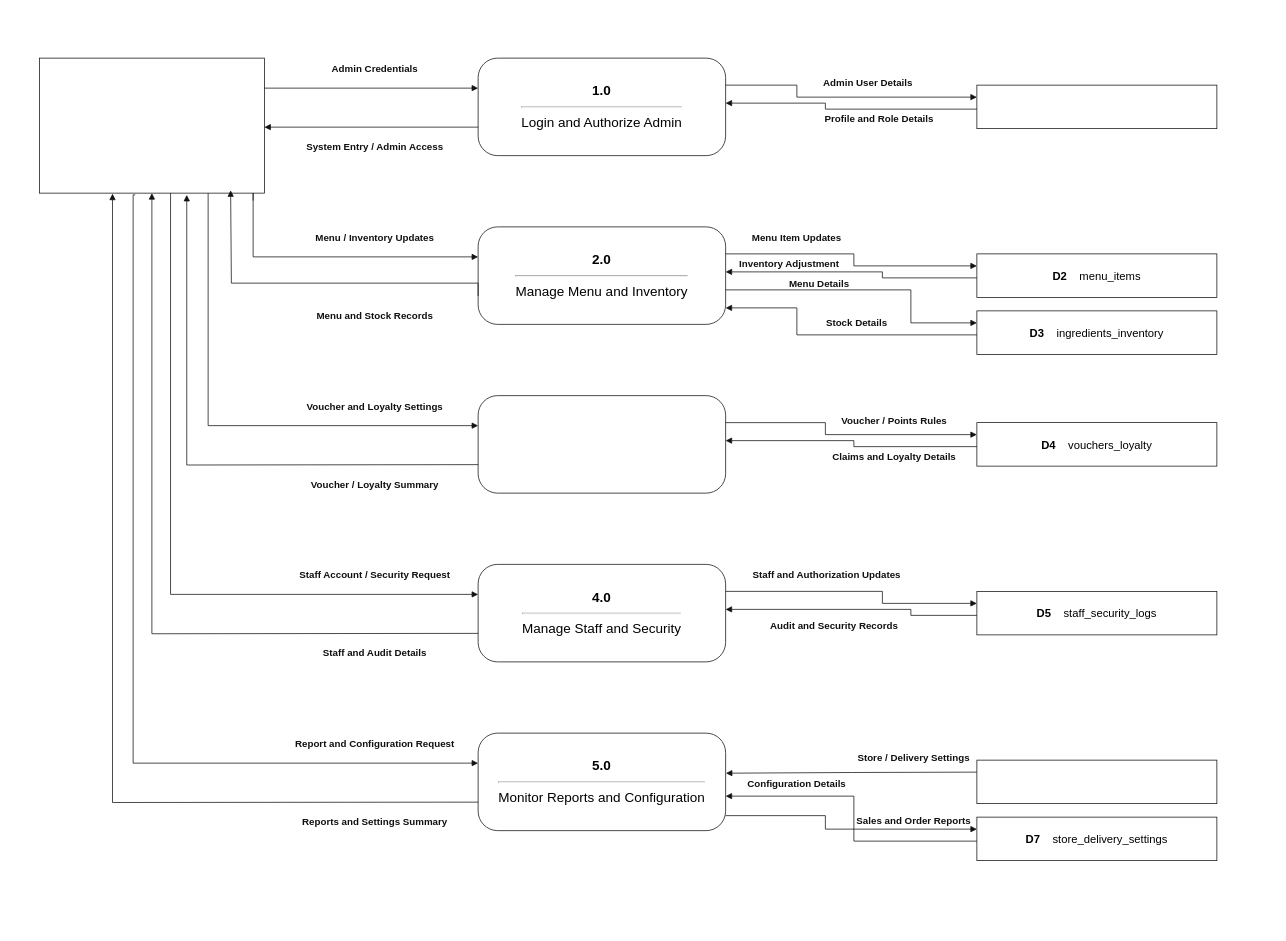
This 1286x941 diagram has some shape labels left out. Each missing label, with the box of its shape:
3.0 Manage Vouchers and Loyalty: (477, 395, 726, 493)
ADMIN: (39, 57, 264, 193)
D1 profiles: (976, 84, 1217, 129)
D6 orders_reports: (976, 759, 1217, 804)
